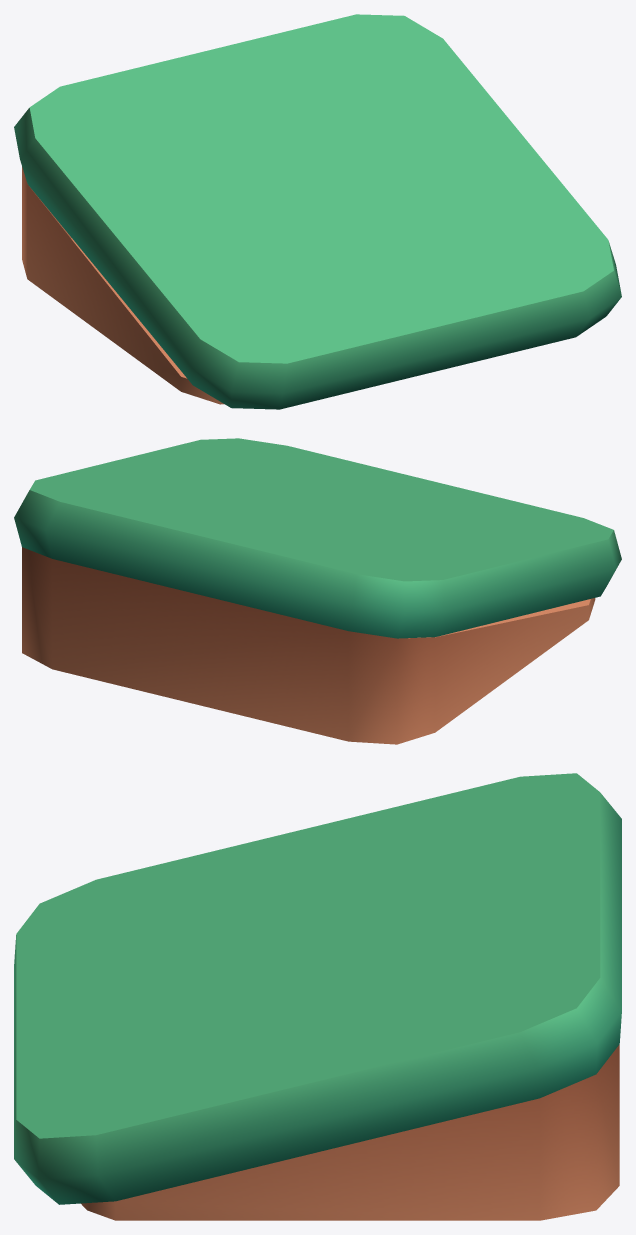
Rendered from block-slope.glb.
3 views of the same model, one above another, from view 1: azimuth 30°, elevation 25°; view 2: azimuth 150°, elevation 25°; view 3: azimuth 270°, elevation 25° (orthographic). The views are drawn at different scales.
Visible parts, largest first — view 1: block-grass-large-slope; view 2: block-grass-large-slope; view 3: block-grass-large-slope.
Part boxes in pixels (x1,y1,x2,y2): block-grass-large-slope: (14, 14, 621, 409); block-grass-large-slope: (14, 438, 621, 744); block-grass-large-slope: (14, 773, 621, 1220).
Size of the model in its own units: 4.16 by 1.52 by 4.02.
1 material, 1 textured.
